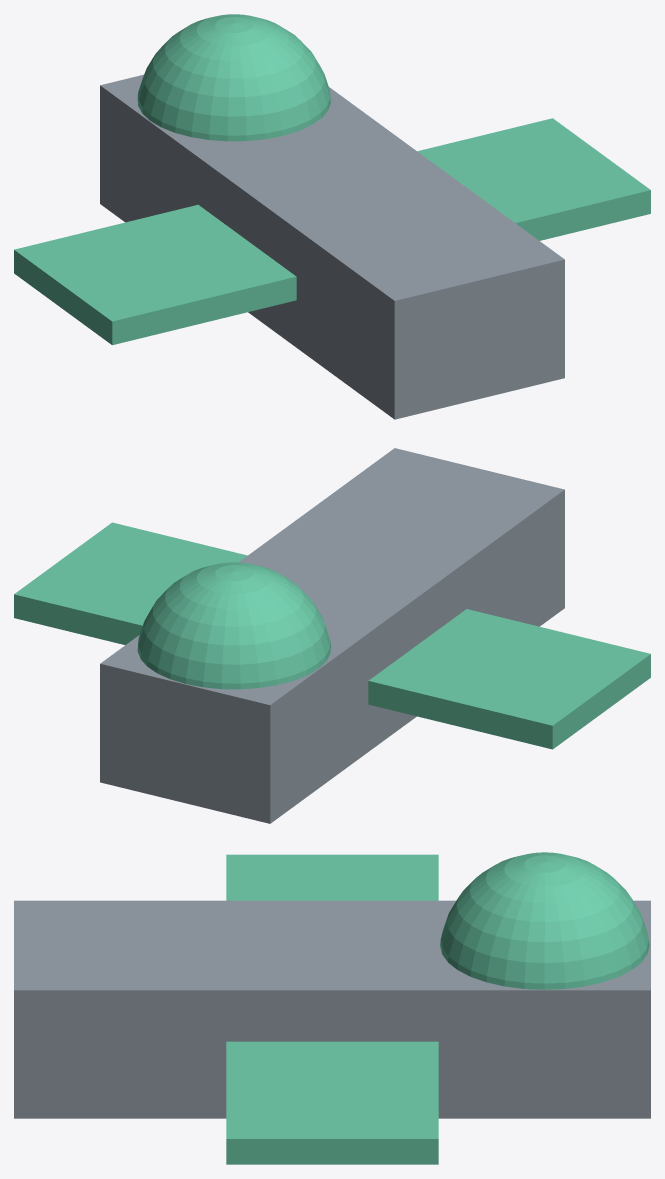
The model's file is CO_KawasemiDrone_LOD0.glb.
3 renders of one model, top to bottom at view 1: azimuth 30°, elevation 25°; view 2: azimuth 150°, elevation 25°; view 3: azimuth 270°, elevation 25°, orthographic. The views are drawn at different scales.
Visible parts, largest first — view 1: Cockpit; view 2: Cockpit; view 3: Cockpit.
Part boxes in pixels (bbox=[...]): Cockpit: bbox=[14, 14, 650, 419]; Cockpit: bbox=[14, 448, 650, 823]; Cockpit: bbox=[14, 852, 650, 1164].
Size of the model in its own units: 190 by 66 by 180.
